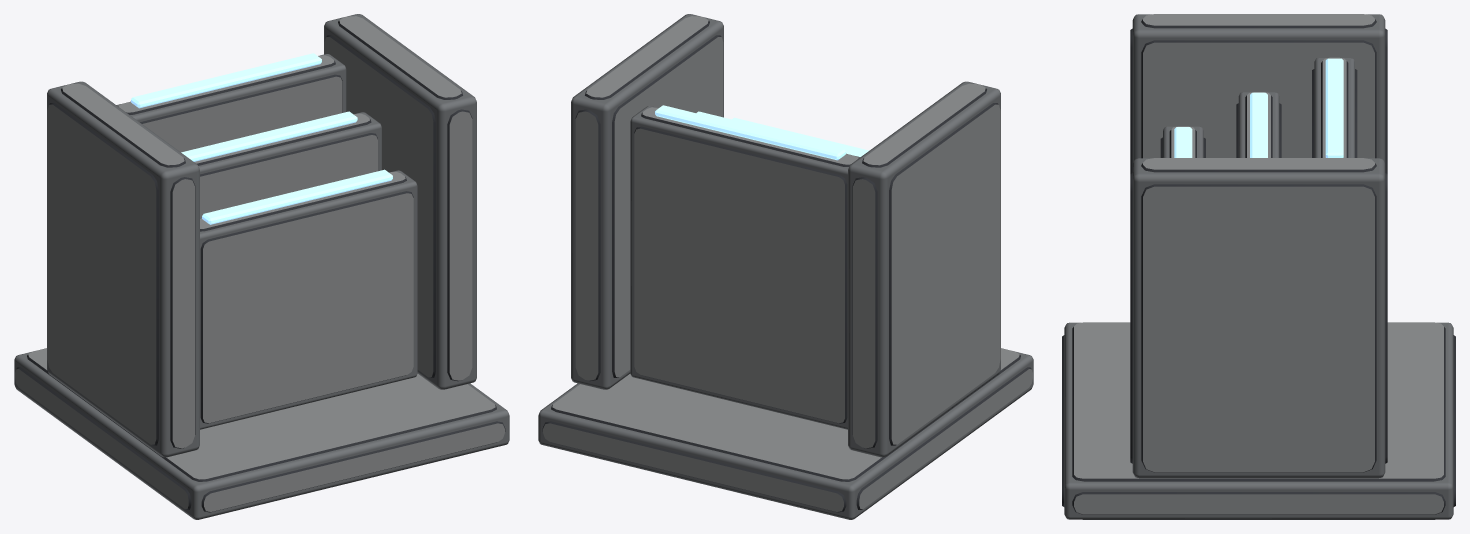
Rendered from R4X_WallDeployer.glb.
3 renders of one model, left to right at view 1: azimuth 30°, elevation 25°; view 2: azimuth 150°, elevation 25°; view 3: azimuth 270°, elevation 25°, orthographic. The views are drawn at different scales.
Parts seen in each view (by area): view 1: R4X_WallDeployer_Body, R4X_WallDeployer_Panels; view 2: R4X_WallDeployer_Body, R4X_WallDeployer_Panels; view 3: R4X_WallDeployer_Body, R4X_WallDeployer_Panels.
Part boxes in pixels (<box>): R4X_WallDeployer_Body: <box>14,14,509,519</box>; R4X_WallDeployer_Panels: <box>116,53,417,429</box>; R4X_WallDeployer_Body: <box>538,14,1033,519</box>; R4X_WallDeployer_Panels: <box>630,105,868,429</box>; R4X_WallDeployer_Body: <box>1062,14,1455,519</box>; R4X_WallDeployer_Panels: <box>1160,57,1357,157</box>.
Bounding box in the file's own units: 0.52 × 0.51 × 0.52.
